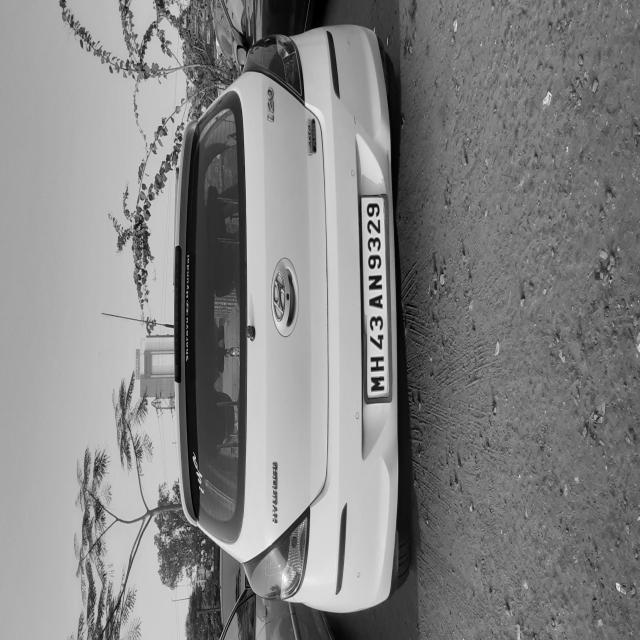car: (12, 354, 302, 640)
